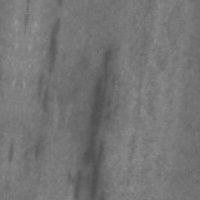inclusion: (67, 43, 122, 199), (40, 14, 68, 77), (30, 70, 56, 117)
